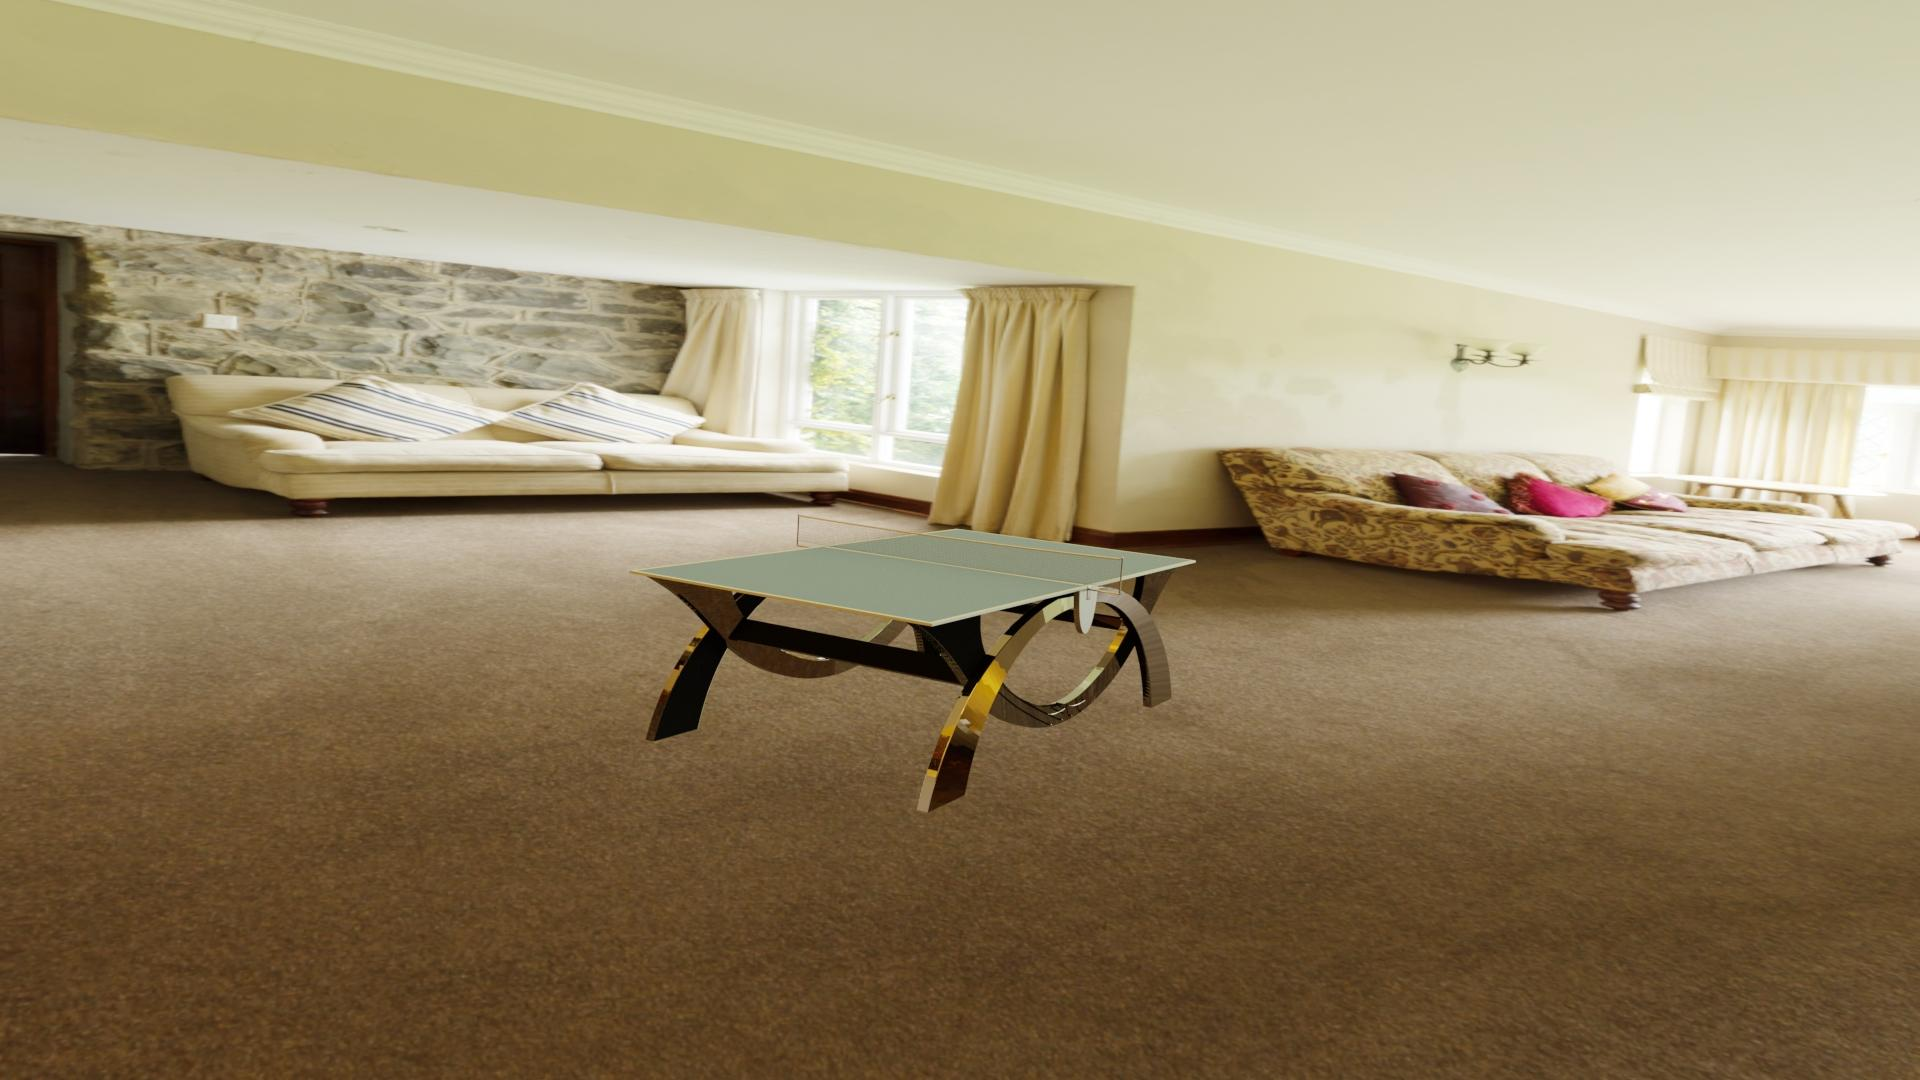table: (636, 530, 1191, 622)
